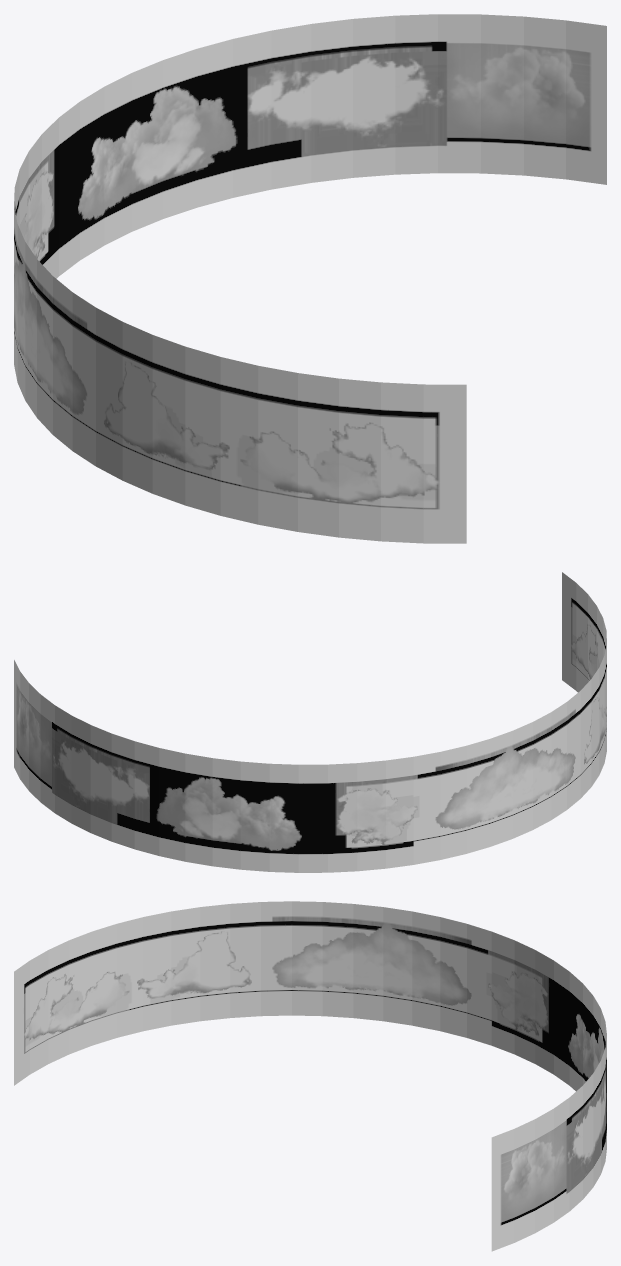
File: SM_SideClouds1.glb
3 renders of one model, top to bottom at view 1: azimuth 30°, elevation 25°; view 2: azimuth 150°, elevation 25°; view 3: azimuth 270°, elevation 25°, orthographic. The views are drawn at different scales.
Parts seen in each view (by area): view 1: Clouds_Model.002; view 2: Clouds_Model.002; view 3: Clouds_Model.002.
Part boxes in pixels (<box>): Clouds_Model.002: <box>14,14,606,543</box>; Clouds_Model.002: <box>14,572,606,872</box>; Clouds_Model.002: <box>14,901,606,1251</box>.
Bounding box in the file's own units: 53.19 × 12 × 56.46.
Materials: 1 (1 with a texture image).
